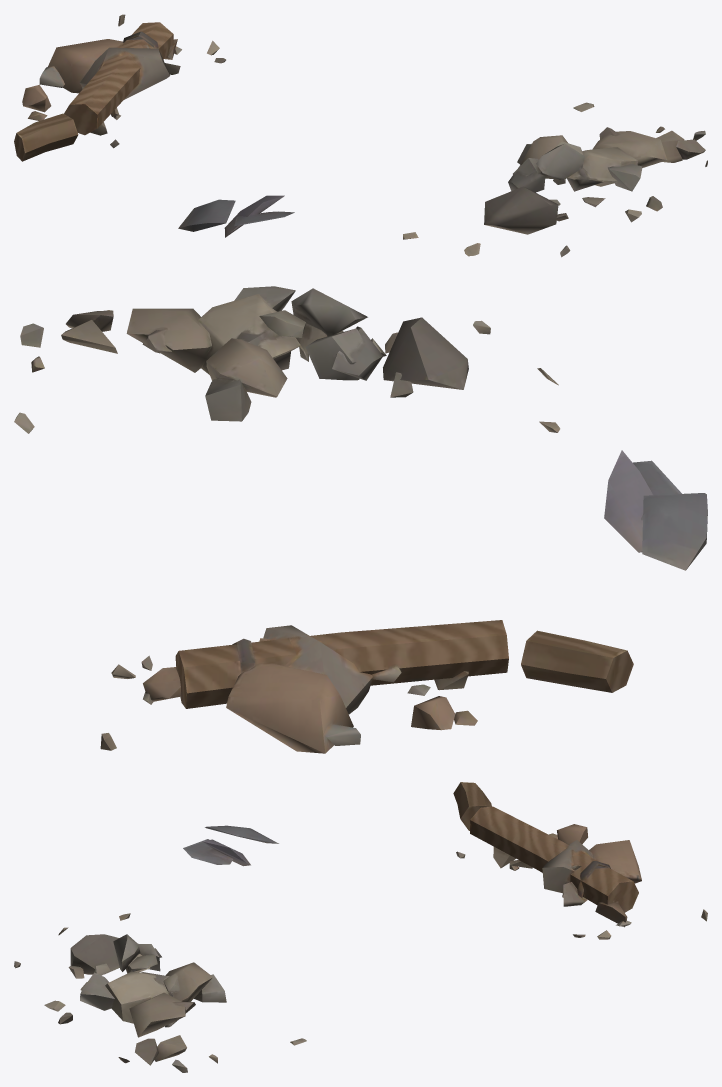
File: rough-cave-2.glb
3 renders of one model, top to bottom at view 1: azimuth 30°, elevation 25°; view 2: azimuth 150°, elevation 25°; view 3: azimuth 270°, elevation 25°, orthographic. The views are drawn at different scales.
Parts seen in each view (by area): view 1: rough-cave-2; view 2: rough-cave-2; view 3: rough-cave-2.
Part boxes in pixels (x1,y1,x2,y2): rough-cave-2: (14, 14, 707, 257); rough-cave-2: (14, 286, 707, 753); rough-cave-2: (14, 782, 707, 1072).
Bounding box in the file's own units: 1.79 × 0.22 × 1.99.
Materials: 1 (1 with a texture image).
